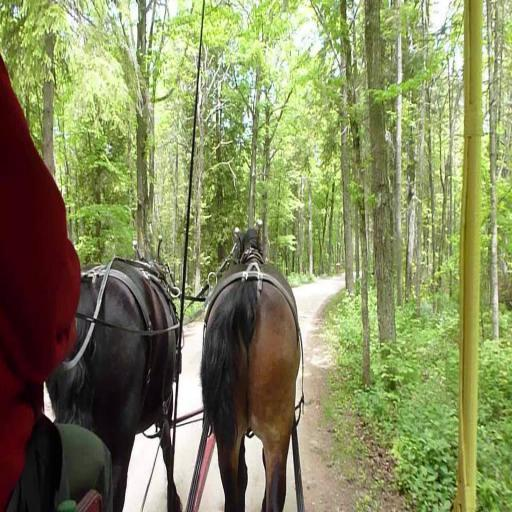horse: (44, 256, 184, 512), (198, 224, 302, 512)
